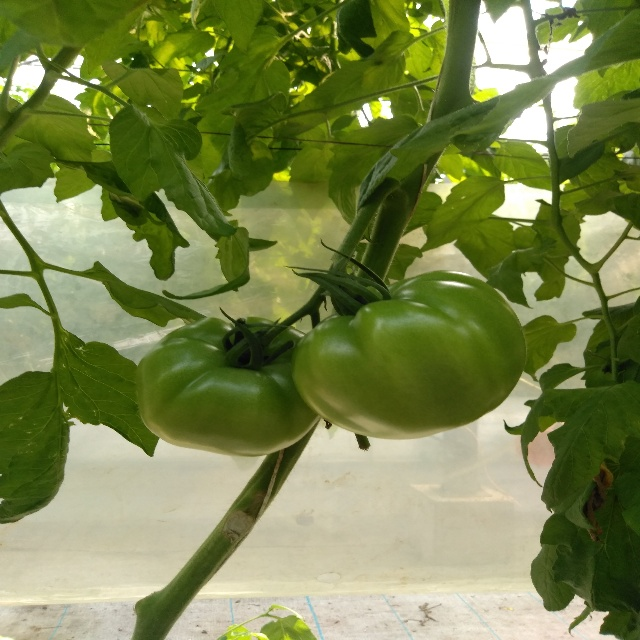b_green: (291, 270, 527, 440), (136, 317, 321, 457)
